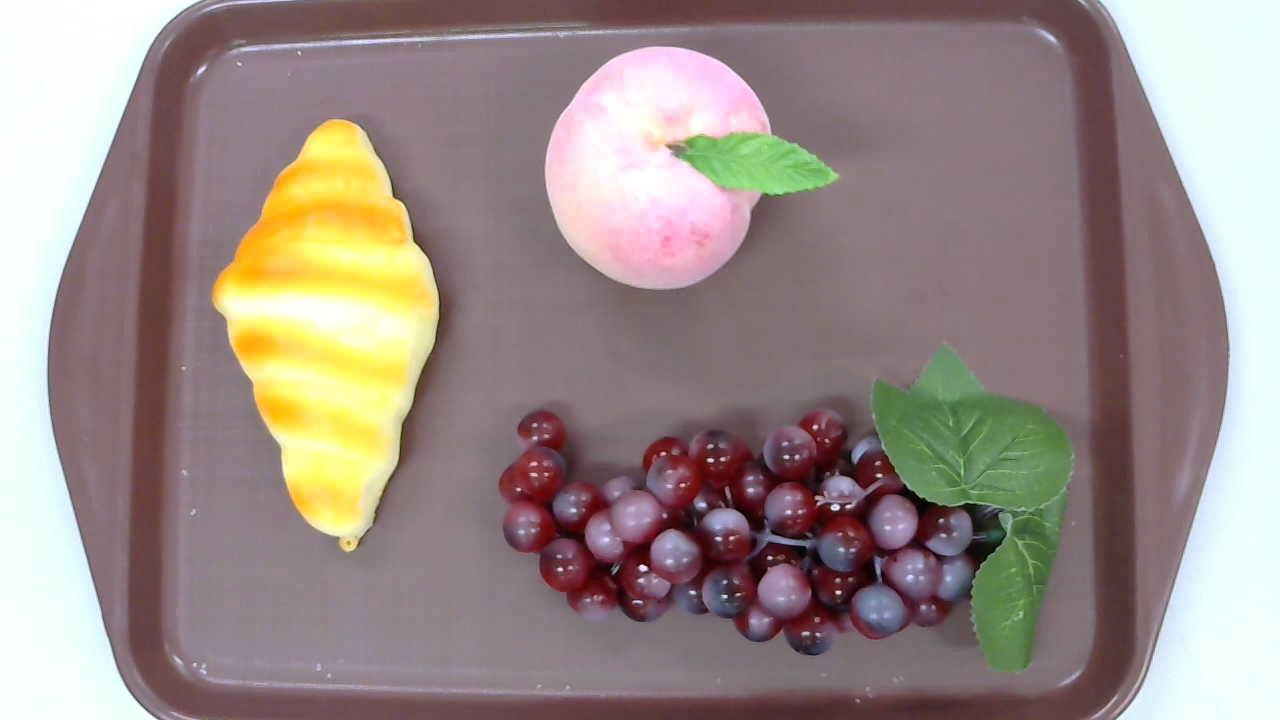croissant: (212, 119, 441, 553)
grape: (497, 341, 1079, 674)
peach: (543, 46, 838, 291)
